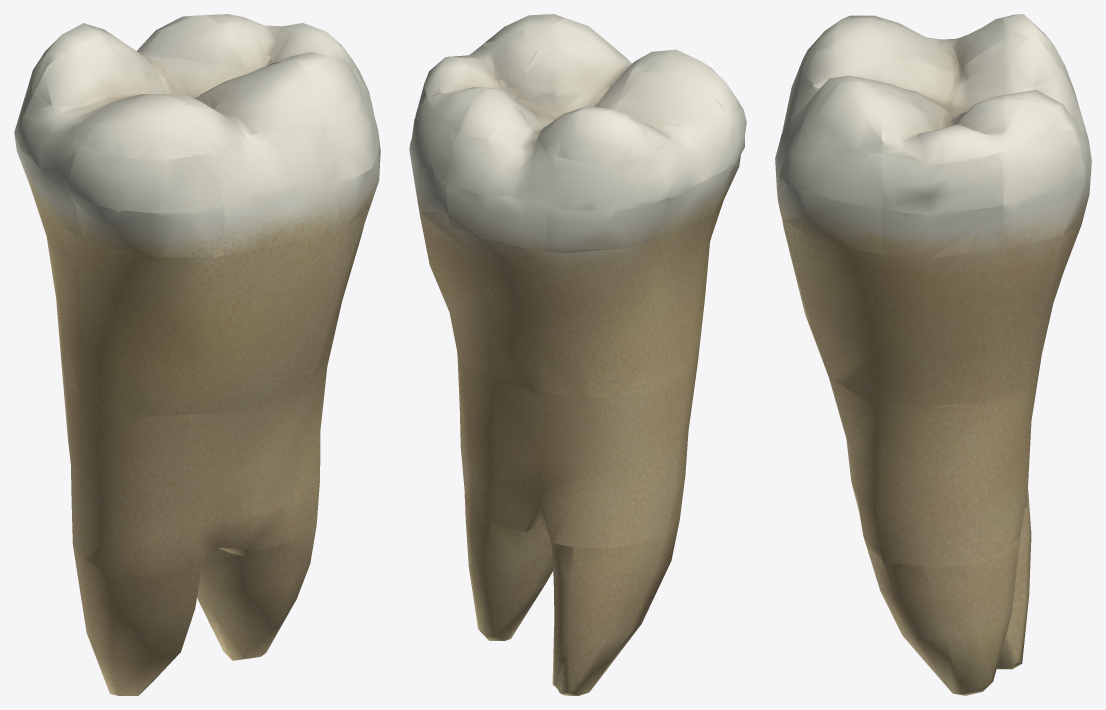
Rendered from Left_Lower_Wisdom.glb.
3 renders of one model, left to right at view 1: azimuth 30°, elevation 25°; view 2: azimuth 150°, elevation 25°; view 3: azimuth 270°, elevation 25°, orthographic. The views are drawn at different scales.
Parts seen in each view (by area): view 1: Human_Teeth_Lower_Third_Molar.029; view 2: Human_Teeth_Lower_Third_Molar.029; view 3: Human_Teeth_Lower_Third_Molar.029.
Part boxes in pixels (x1,y1,x2,y2): Human_Teeth_Lower_Third_Molar.029: (14,14,380,695); Human_Teeth_Lower_Third_Molar.029: (409,14,746,695); Human_Teeth_Lower_Third_Molar.029: (775,14,1091,695).
Size of the model in its own units: 1.52 by 3.02 by 1.37.
Materials: 30 (30 with a texture image).
